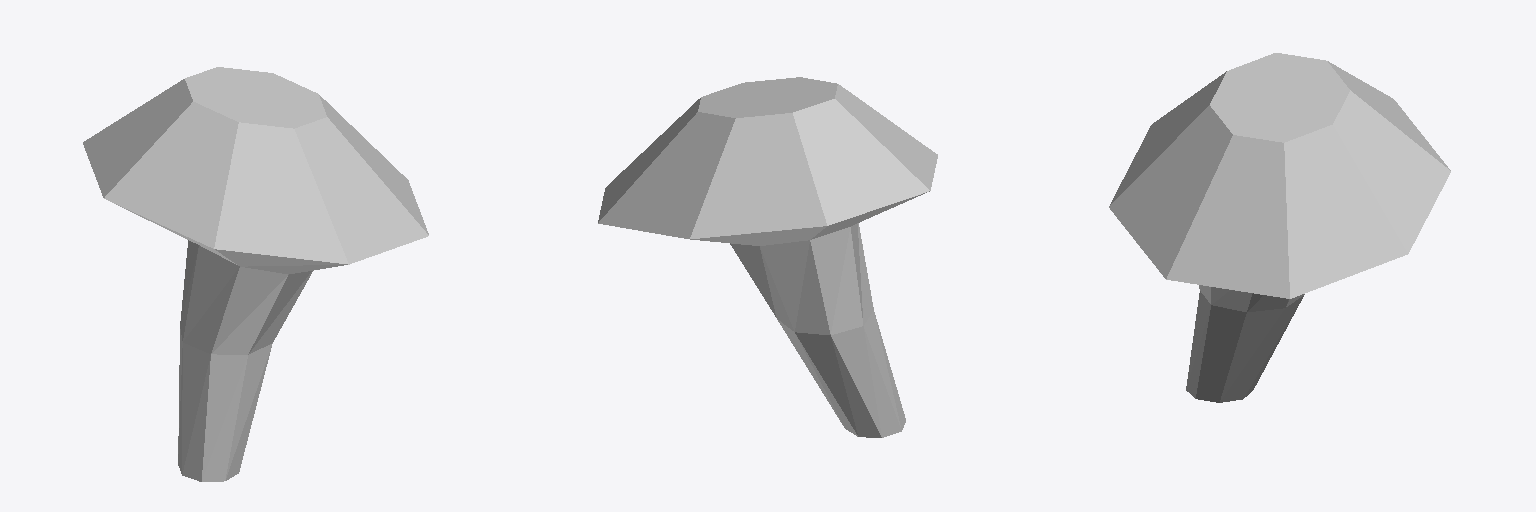
Rendered from Mushroom_02.obj.
3 views of the same model, side by side, from view 1: azimuth 30°, elevation 25°; view 2: azimuth 150°, elevation 25°; view 3: azimuth 270°, elevation 25° (orthographic).
Parts seen in each view (by area): view 1: Mushrooms:pasted__pCylinder1 group2; view 2: Mushrooms:pasted__pCylinder1 group2; view 3: Mushrooms:pasted__pCylinder1 group2.
Boxes of the visible parts, <box> form: Mushrooms:pasted__pCylinder1 group2: <box>83,67,428,481</box>; Mushrooms:pasted__pCylinder1 group2: <box>598,77,937,437</box>; Mushrooms:pasted__pCylinder1 group2: <box>1109,53,1450,402</box>.
Bounding box in the file's own units: 0.7673 × 0.8009 × 0.7233.